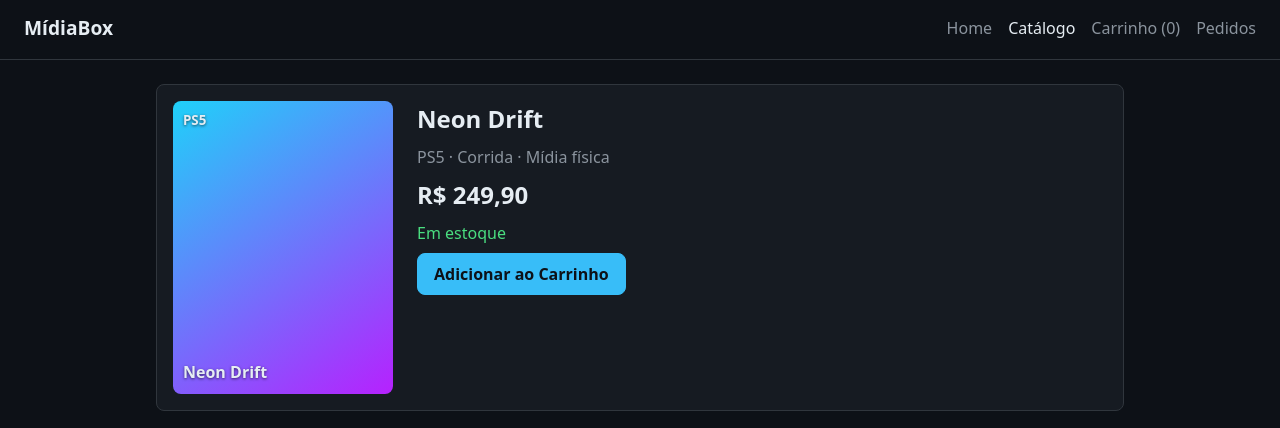
Scenario: página Produto › adicionar ao carrinho atualiza o Header
The width and height of the screenshot is (1280, 428).
expect the link "Carrinho (0)" is shown: met, box top-left (1091, 16), bottom-right (1180, 40)
Click the button "Adicionar ao Carrinho" at (521, 274), box top-left (417, 253), bottom-right (626, 295)
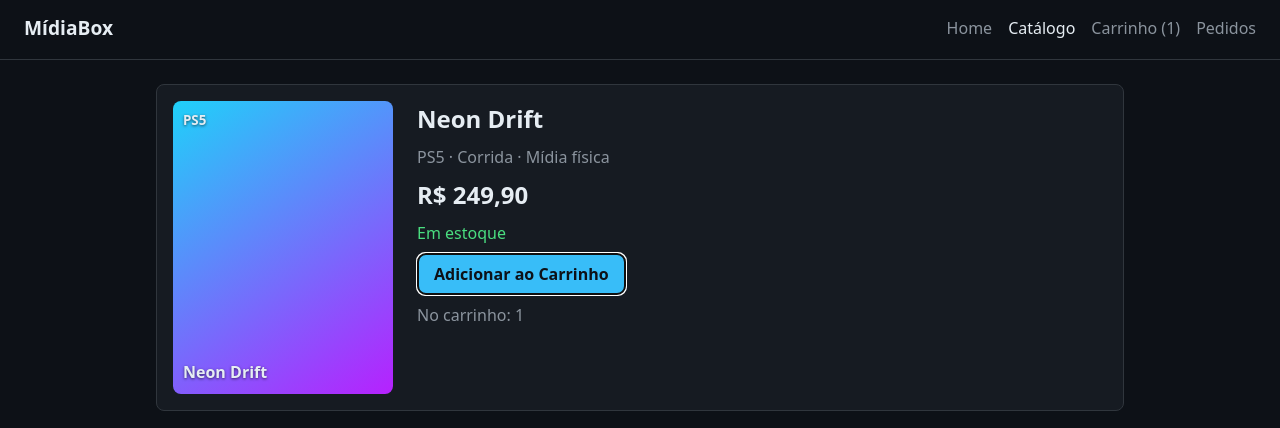
expect the link "Carrinho (1)" is shown: met, box top-left (1091, 16), bottom-right (1180, 40)
